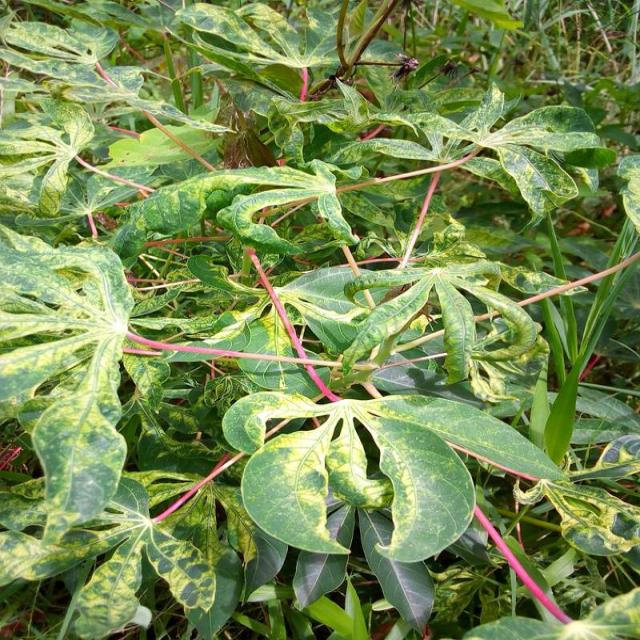cassava leaf: (2, 3, 636, 637), (358, 408, 478, 564), (240, 428, 354, 556)
